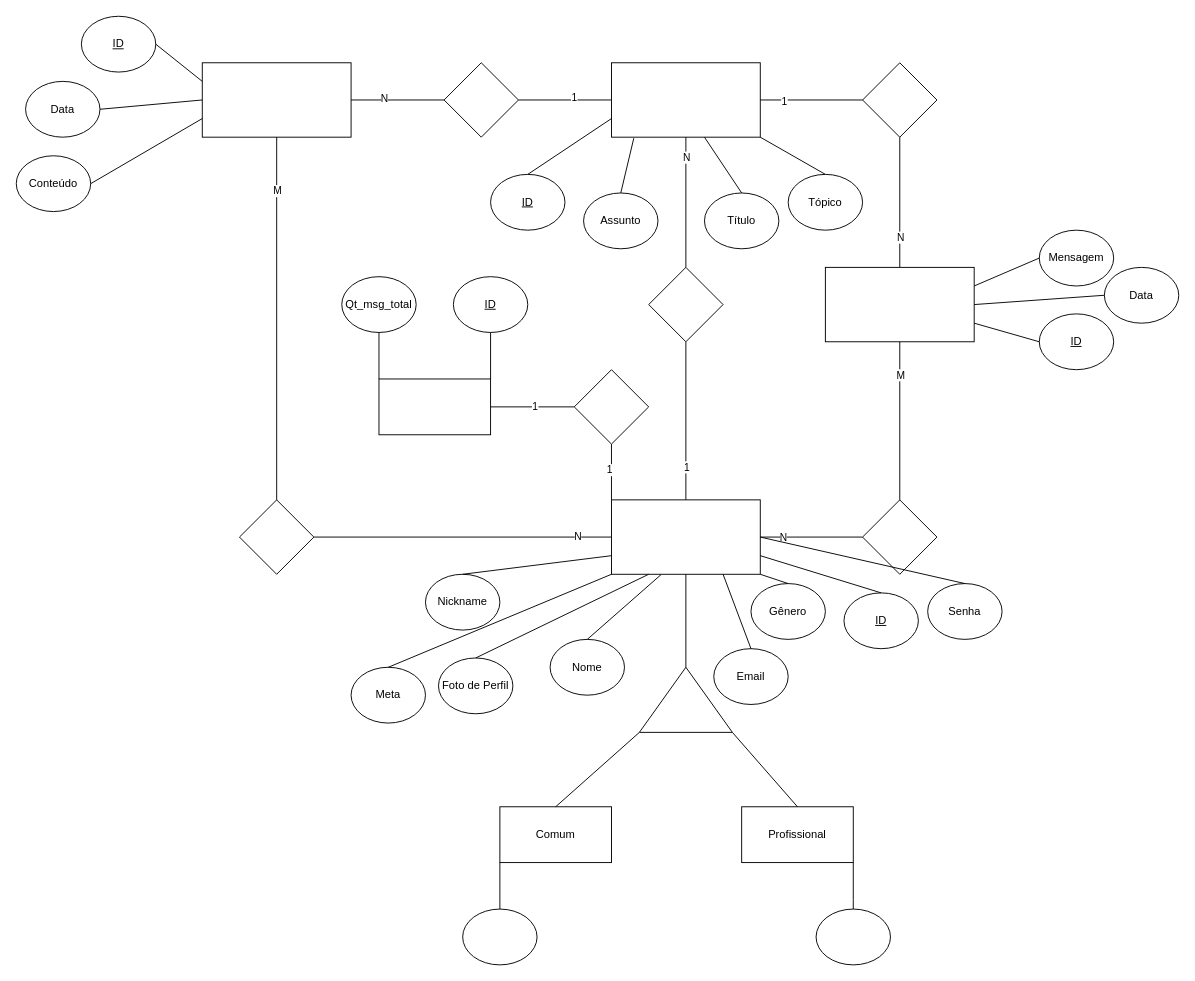
Image size: 1195x981. Some labels were removed from this diagram. The shapes that lost their labels are listed below. From the top down, each one's centre as x and y in pixels, then its label:
At point (276, 99): "Denúncias".
At point (685, 99): "Postagens".
At point (899, 304): "Comentários".
At point (434, 406): "Chat".
At point (685, 536): "Usuários".
At point (499, 936): "Distúrbio".
At point (852, 936): "Profissão".
